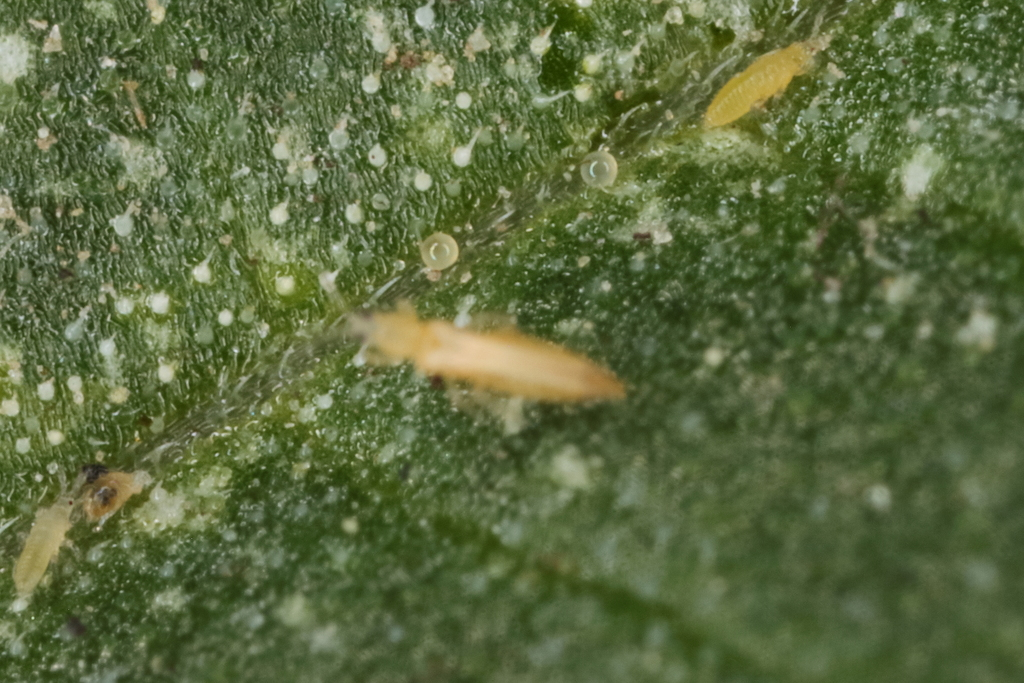tiny_pests: (275, 250, 680, 469), (673, 2, 873, 156), (0, 465, 104, 625), (56, 425, 177, 554)
